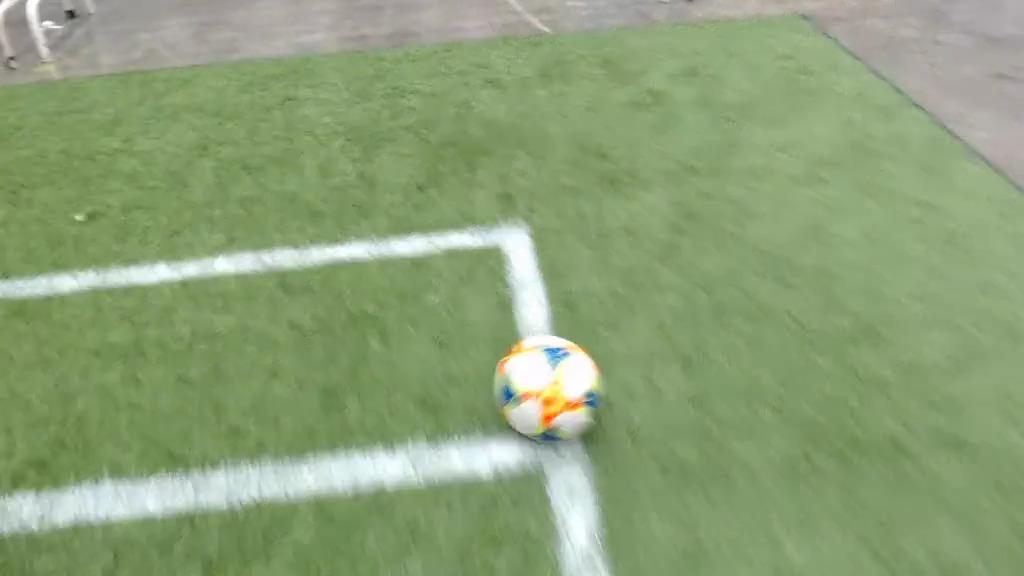ball: (495, 336, 602, 440)
